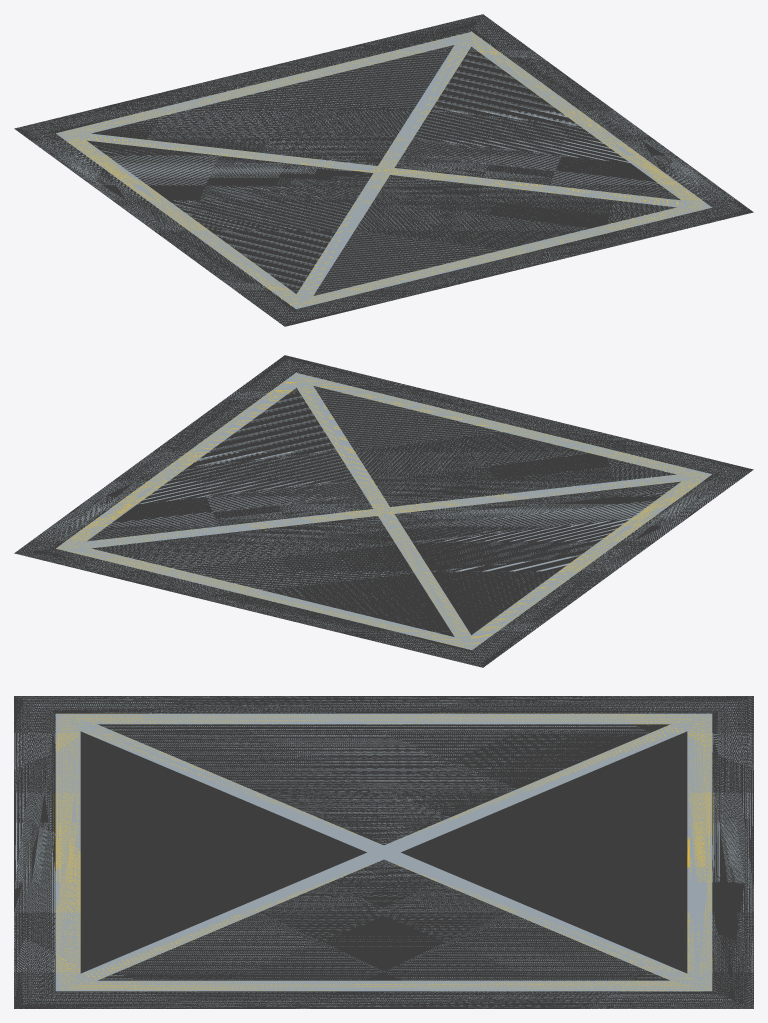
Rendered from intersection_2x2.fbx.
3 renders of one model, top to bottom at view 1: azimuth 30°, elevation 25°; view 2: azimuth 150°, elevation 25°; view 3: azimuth 270°, elevation 25°, orthographic. The views are drawn at different scales.
Visible parts, largest first — view 1: Model; view 2: Model; view 3: Model.
Boxes of the visible parts, <box> form: Model: <box>14,14,753,326</box>; Model: <box>14,355,753,667</box>; Model: <box>14,696,753,1008</box>.
Size of the model in its own units: 8.9 by 0 by 8.9.
